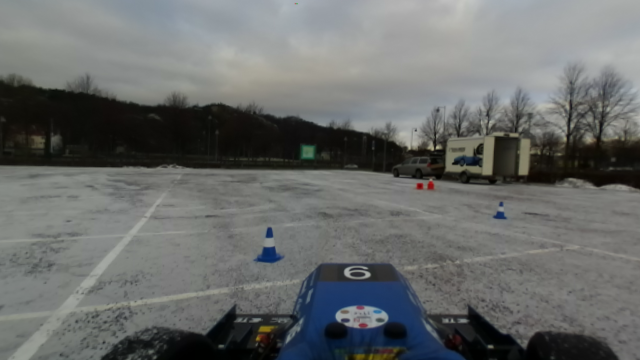blue: (254, 226, 283, 264), (492, 200, 508, 218)
